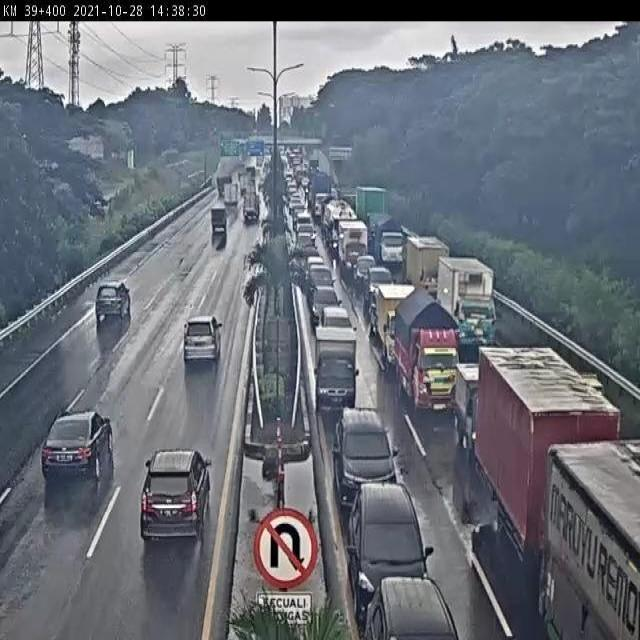Car: (345, 479, 435, 627), (332, 403, 399, 508), (139, 448, 211, 544), (364, 575, 458, 640), (41, 408, 114, 481), (181, 314, 222, 366), (307, 285, 343, 332), (94, 280, 131, 324), (364, 266, 396, 308), (307, 264, 337, 305), (316, 306, 358, 335), (353, 254, 378, 286), (305, 256, 325, 283), (296, 224, 316, 250)
Truck: (474, 348, 618, 549), (541, 442, 638, 638), (394, 286, 465, 412), (375, 281, 422, 368), (436, 256, 494, 326), (314, 324, 358, 414), (453, 364, 481, 454), (454, 298, 496, 357), (404, 235, 447, 292), (323, 197, 357, 255), (336, 218, 368, 279), (372, 212, 406, 268), (354, 184, 386, 239), (309, 169, 333, 217), (242, 184, 260, 223), (223, 182, 239, 209), (211, 205, 227, 232), (216, 174, 233, 196), (238, 171, 250, 195)
